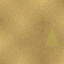structure: (44, 27, 59, 46)
